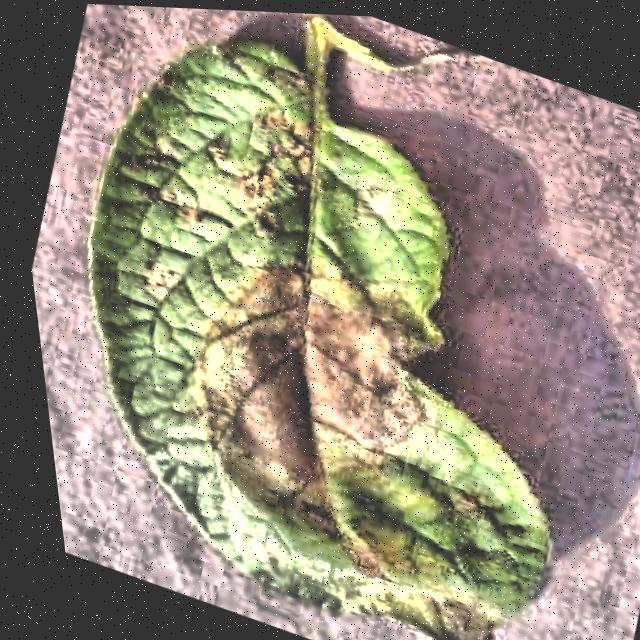Potato_leaf_late_blight: (89, 18, 548, 640)
